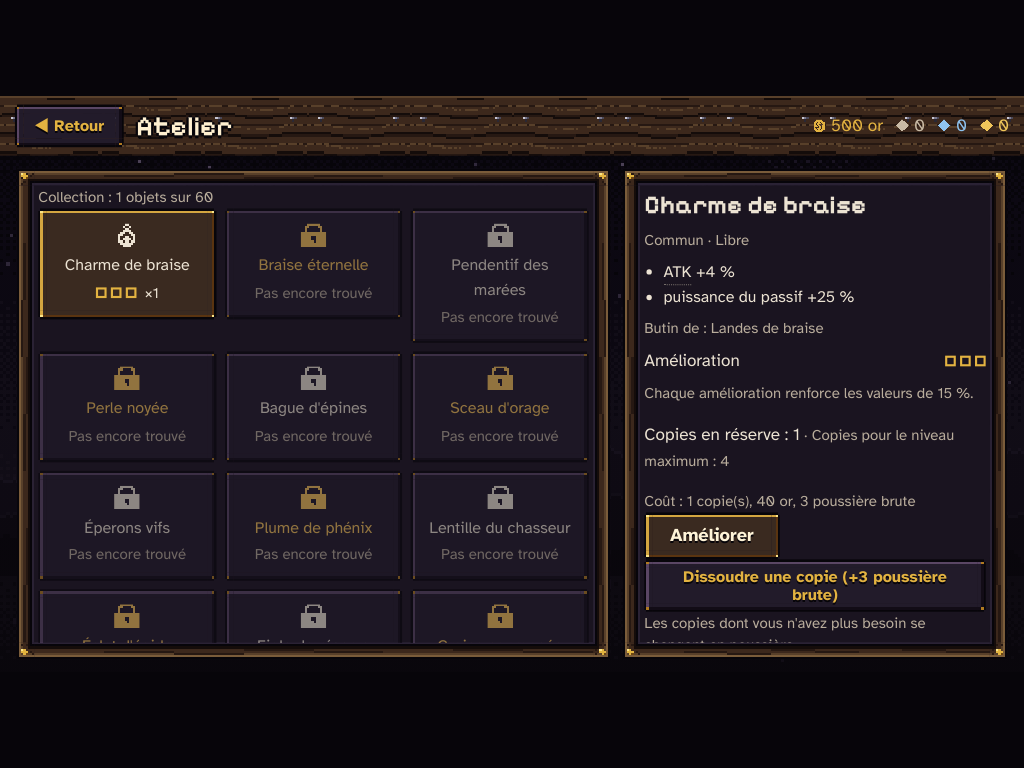
it: atelier : collection, copies, amélioration › une copie en trop se dissout en poussière du palier de l’objet
Click the button "Dissoudre une copie (+3 poussière brute)" at point(815, 585), box [644,559,986,611]
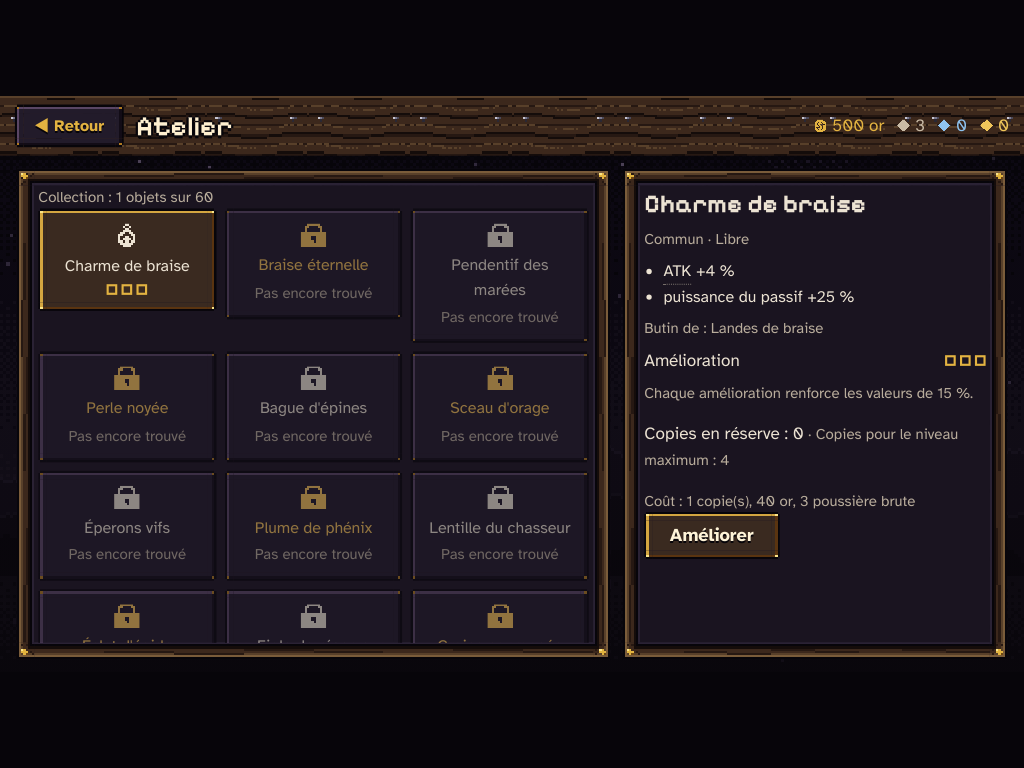
expect the text "Les copies dont vous n'avez plus besoin se changent en poussière." is gone: met
